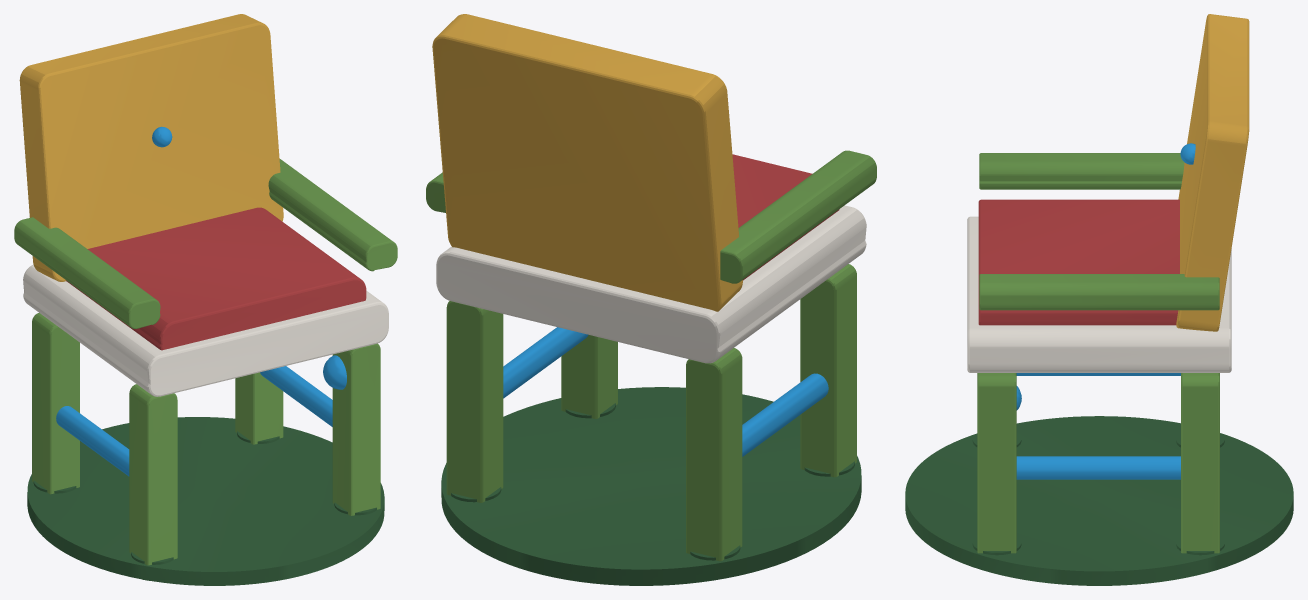
The model's file is 1347_城市运转图鉴_污水处理厂.glb.
3 views of the same model, side by side, from view 1: azimuth 30°, elevation 25°; view 2: azimuth 150°, elevation 25°; view 3: azimuth 270°, elevation 25° (orthographic). The views are drawn at different scales.
Visible parts, largest first — view 1: card_1347; view 2: card_1347; view 3: card_1347.
Part boxes in pixels (x1,y1,x2,y2): card_1347: [14, 14, 397, 585]; card_1347: [426, 14, 876, 585]; card_1347: [905, 14, 1293, 585].
Bounding box in the file's own units: 0.7527 × 1 × 0.7955.
